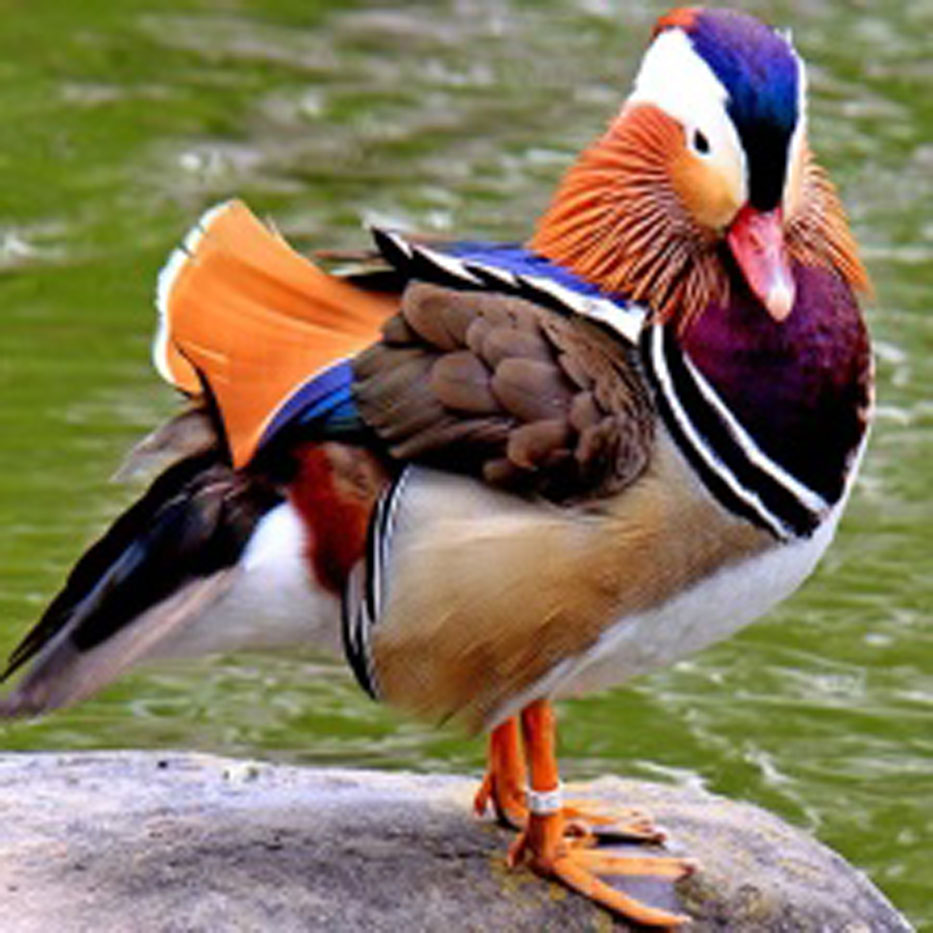Mencari Makan di Lumpur: (746, 211, 821, 335)
